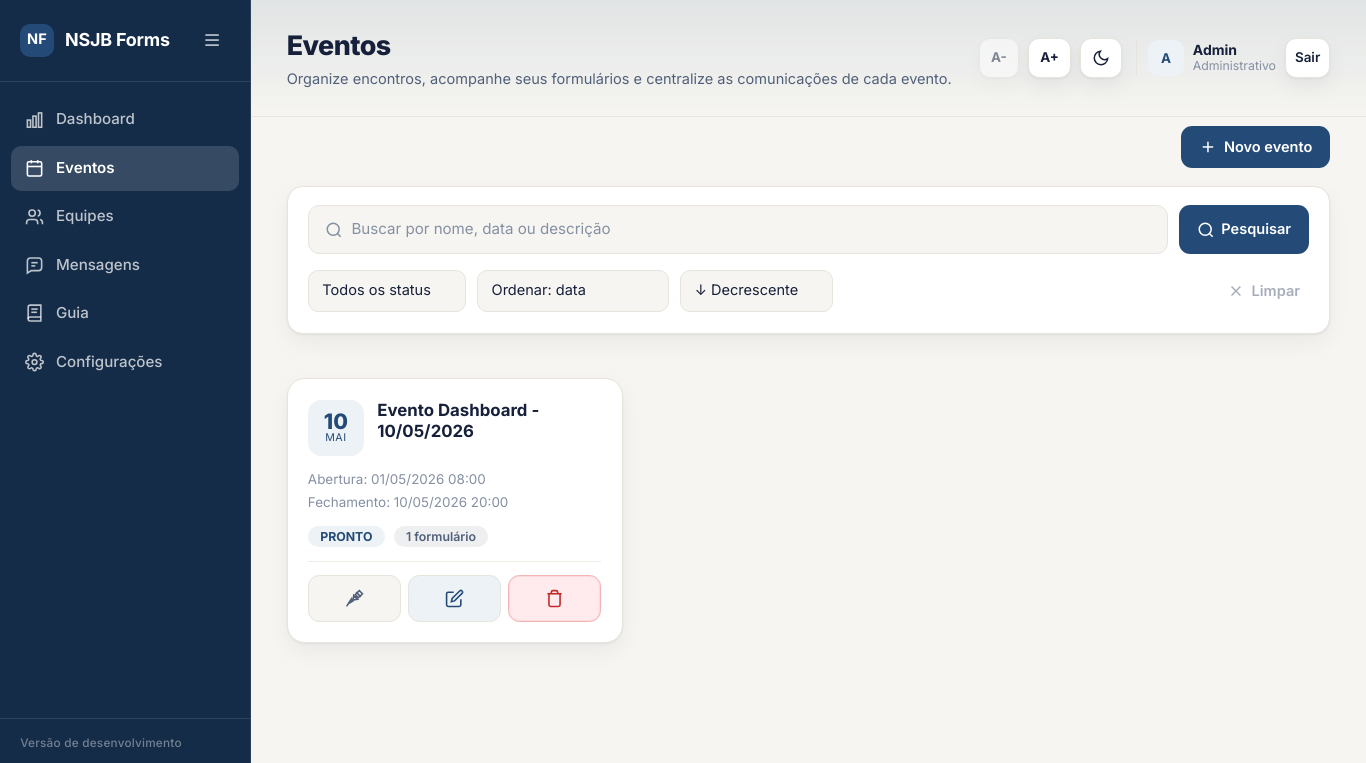
it: App dashboard flow › abre configuracoes em tela dedicada para admin
The image size is (1366, 763).
Expected: the button "Dashboard" is shown, top-left (11, 97), bottom-right (239, 142)
Click the button "Configurações": coordinates (125, 362) top-left (11, 339), bottom-right (239, 384)
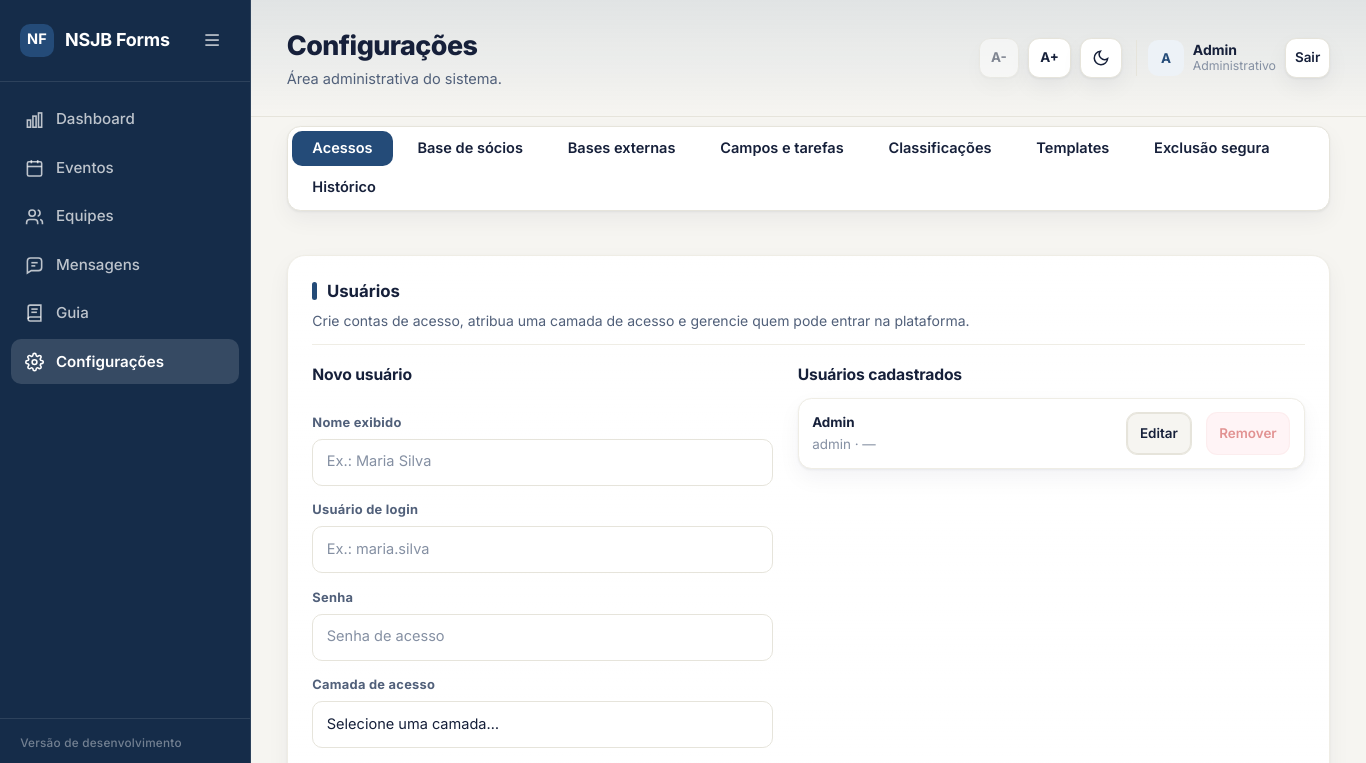
Expected: the button "Acessos" is shown, top-left (292, 131), bottom-right (393, 166)
Expected: the heading "Configurações" is shown, top-left (287, 25), bottom-right (502, 65)
Expected: the text "Área administrativa do sistema." is shown, top-left (287, 69), bottom-right (502, 91)
